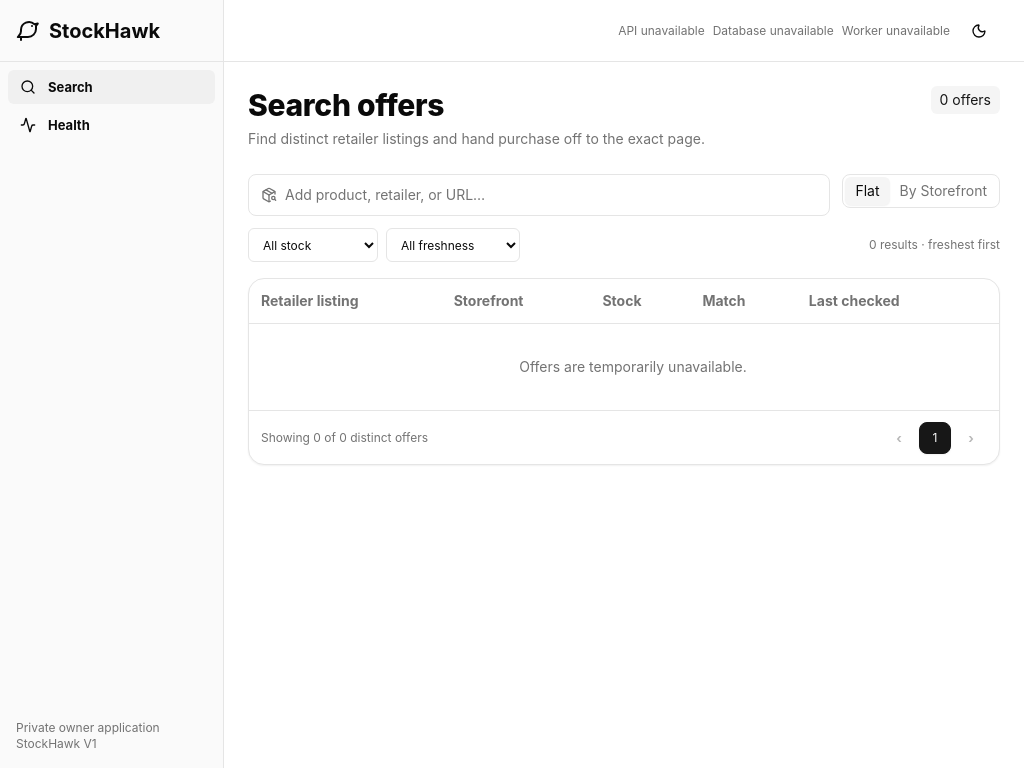
Test: StockHawk shell › opens Search by default and navigates to Health
Expected: the heading "Search offers" is shown, [248, 87, 444, 123]
Click the link "Health": (55, 125) [20, 117, 90, 133]
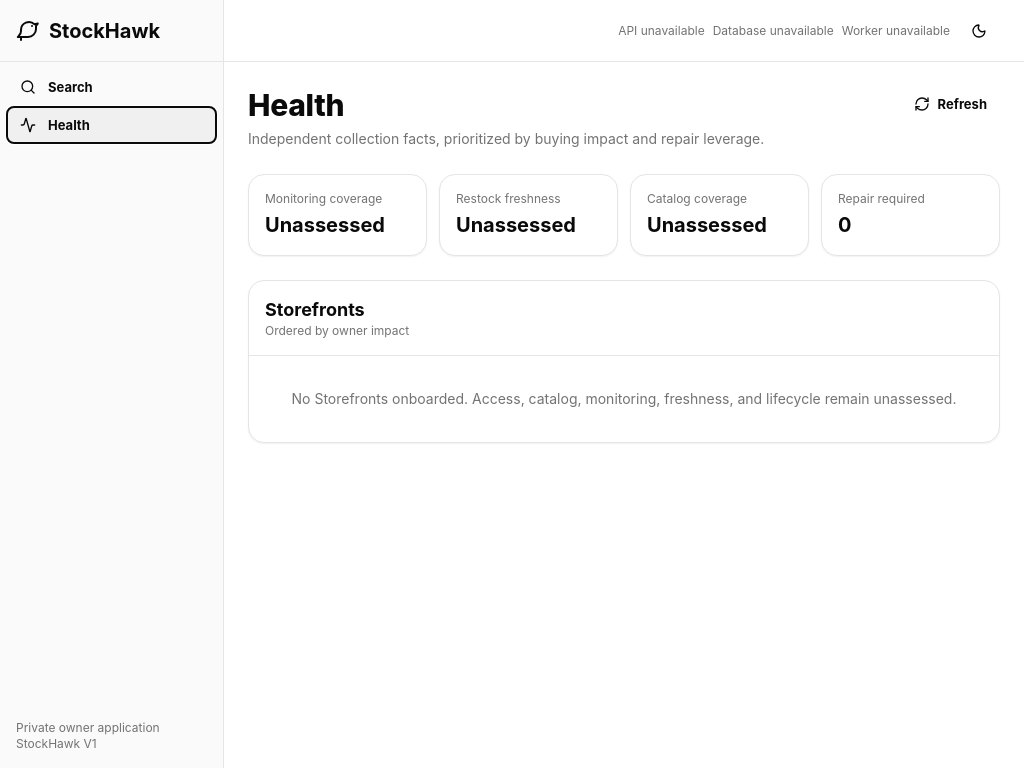
Result: the heading "Health" is shown at [248, 87, 344, 123]
